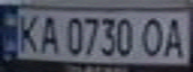0: (115, 15, 139, 58), (60, 14, 84, 56)
3: (100, 15, 118, 57)
7: (81, 14, 100, 56)
A: (160, 14, 190, 58), (36, 12, 63, 55)
K: (15, 10, 42, 54)
O: (139, 15, 169, 57)
